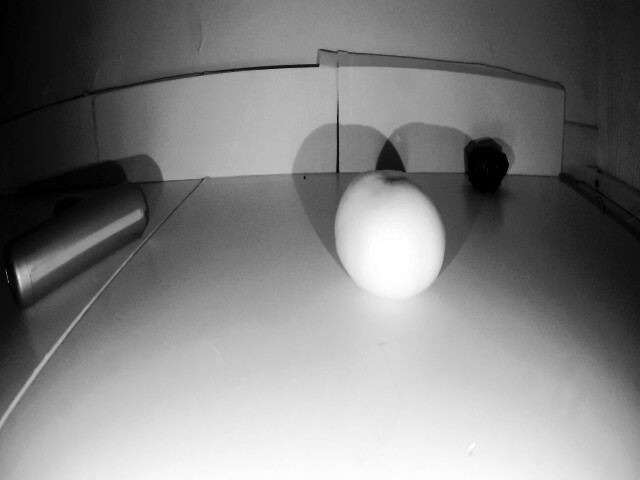black: (453, 136, 509, 189)
